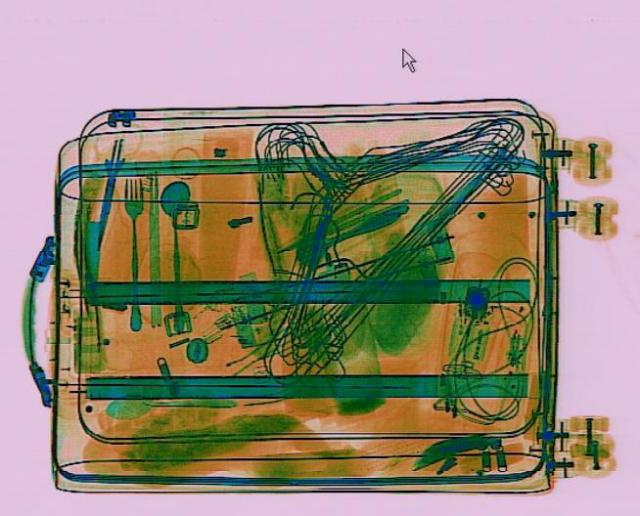Knife: (84, 134, 128, 251)
